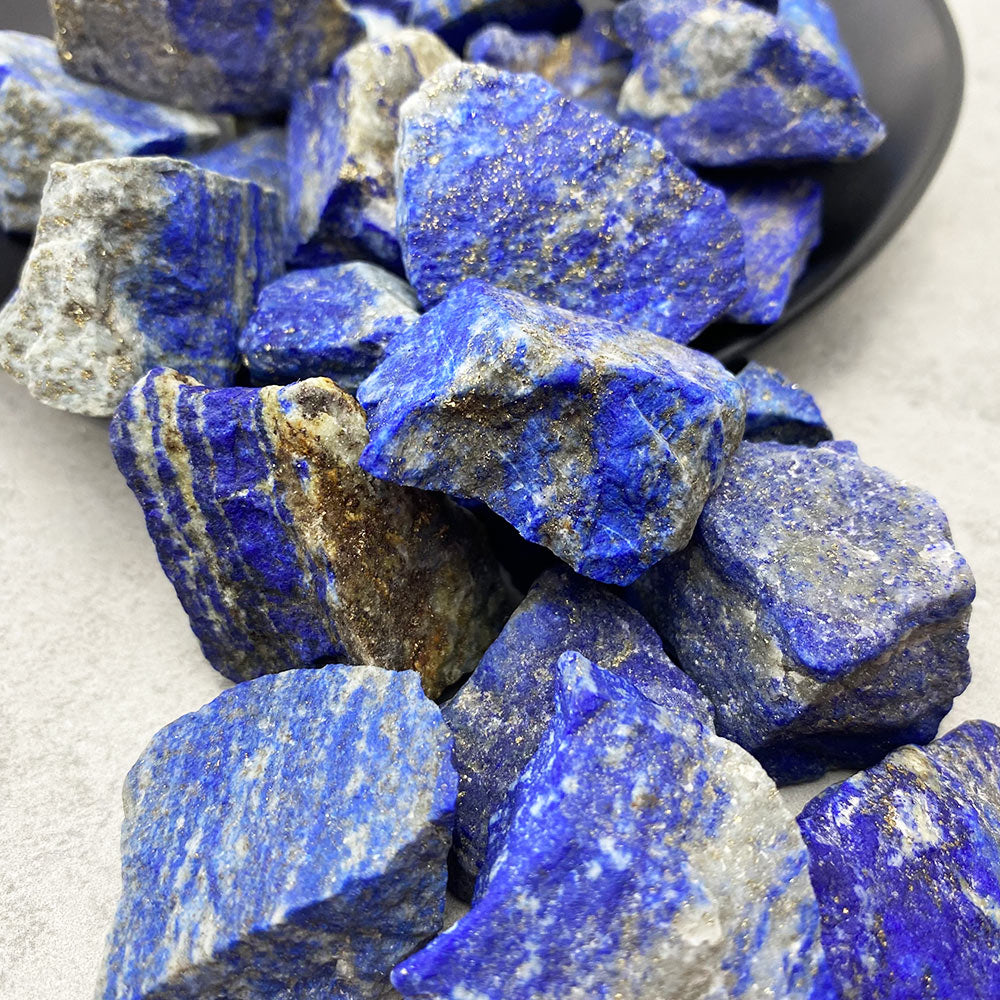Lapis_Lazuli: (354, 288, 742, 589), (482, 670, 832, 1000), (128, 698, 447, 1000), (795, 714, 1000, 985)
